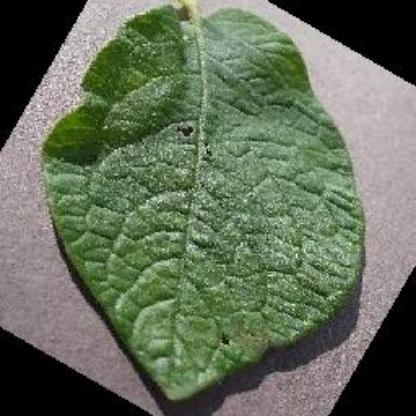Healthy-plant: (54, 4, 369, 404)
